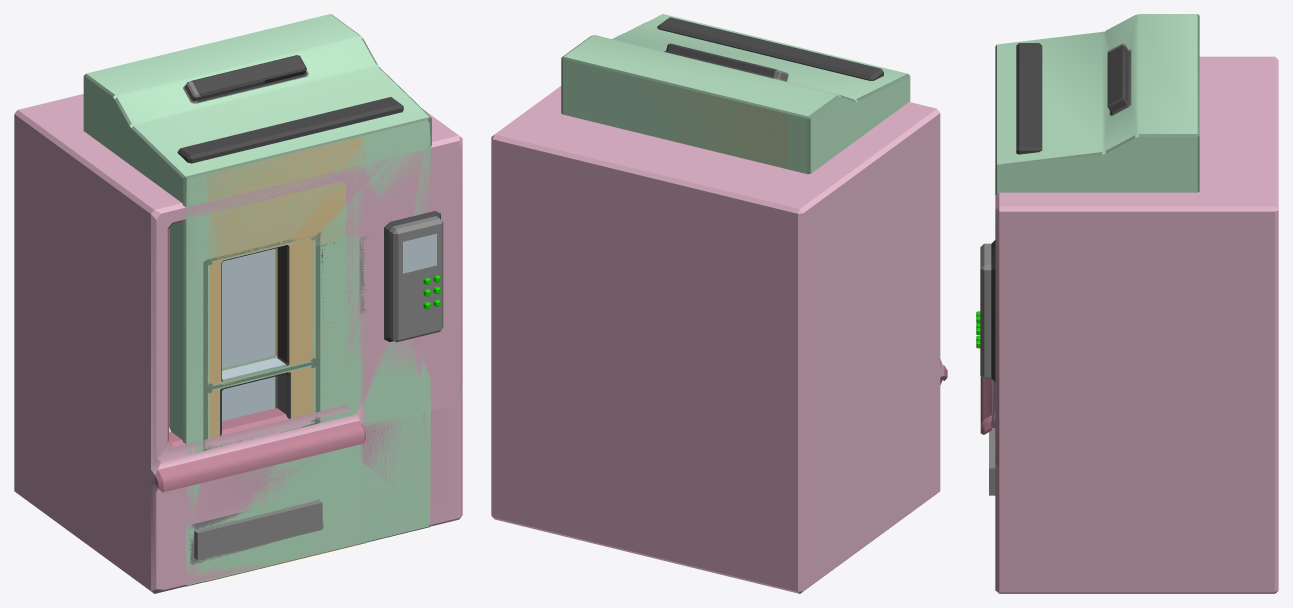
The model's file is dekor_dolap.fbx.
The picture shows the model from 3 angles, left to right: view 1: azimuth 30°, elevation 25°; view 2: azimuth 150°, elevation 25°; view 3: azimuth 270°, elevation 25°; orthographic projection.
Visible parts, largest first — view 1: dekor3, dekor1, dekor2; view 2: dekor3, dekor1, dekor2; view 3: dekor3, dekor1.
Part boxes in pixels (x1,y1,x2,y2): dekor3: (14, 94, 462, 593); dekor1: (83, 14, 431, 586); dekor2: (183, 80, 366, 582); dekor3: (491, 17, 947, 593); dekor1: (561, 14, 910, 174); dekor2: (631, 70, 788, 168); dekor3: (976, 43, 1278, 593); dekor1: (995, 14, 1199, 194).
Bounding box in the file's own units: 256 × 349 × 214.
